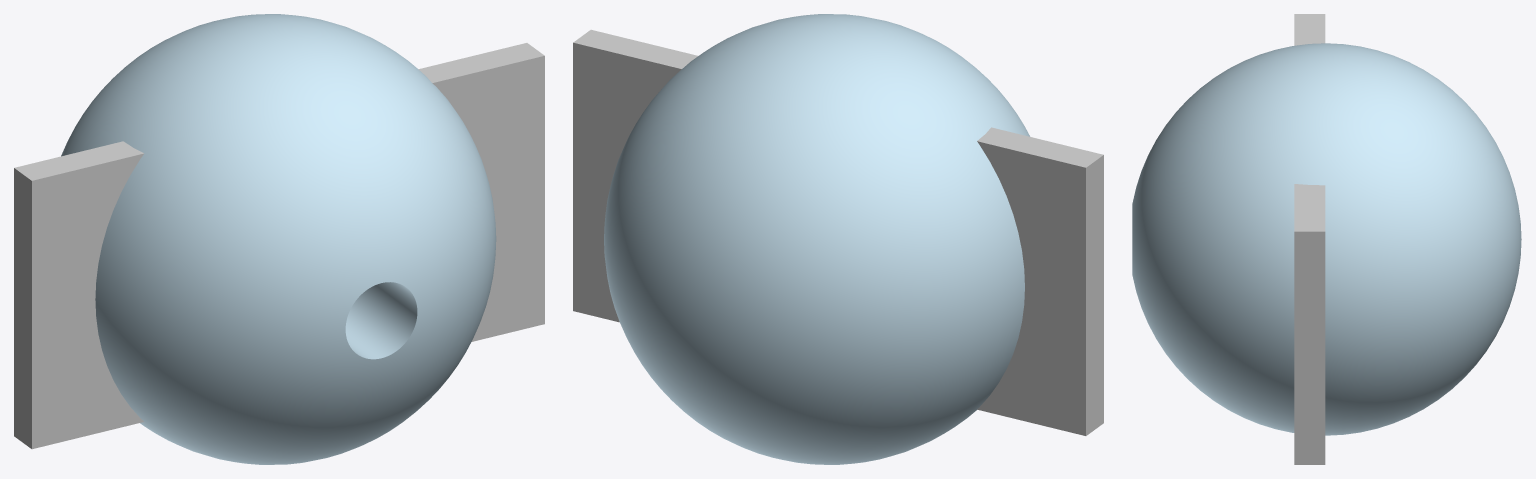
The picture shows the model from 3 angles, left to right: view 1: azimuth 30°, elevation 25°; view 2: azimuth 150°, elevation 25°; view 3: azimuth 270°, elevation 25°; orthographic projection. The views are drawn at different scales.
Parts seen in each view (by area): view 1: Part 1, Part 2; view 2: Part 1, Part 2; view 3: Part 1, Part 2.
Part boxes in pixels (<box>): Part 1: <box>61,14,496,464</box>; Part 2: <box>14,43,544,449</box>; Part 1: <box>604,14,1030,464</box>; Part 2: <box>573,29,1103,435</box>; Part 1: <box>1132,43,1521,435</box>; Part 2: <box>1294,14,1325,464</box>.
Size of the model in its own units: 0.1 by 0.0762 by 0.0756.
